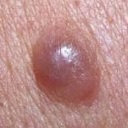Melanoma: (31, 24, 96, 101)
